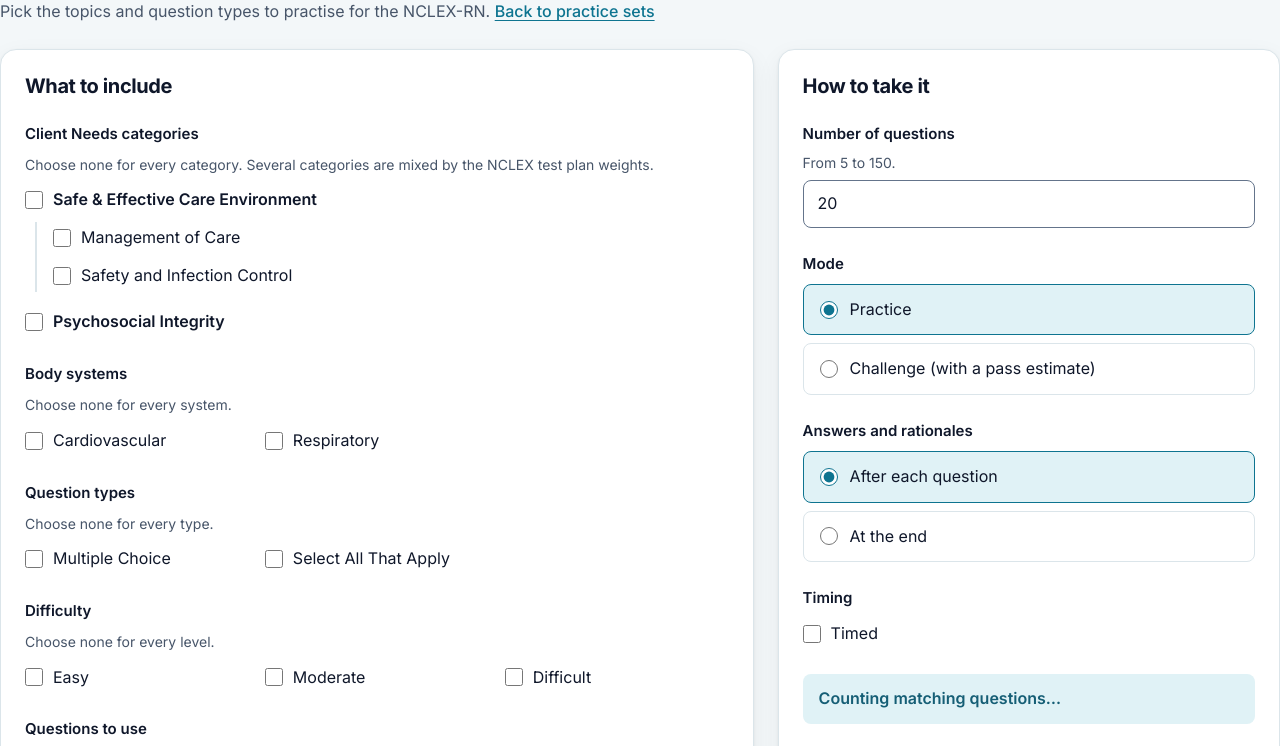
CustomBuilder › creates the test and shows it with the number of questions
Check: the checkbox labelled "Management of Care" is shown, box 53,229 -> 71,247
Click the checkbox labelled "Psychosocial Integrity" at coordinates (34, 322), box 25,313 -> 43,331
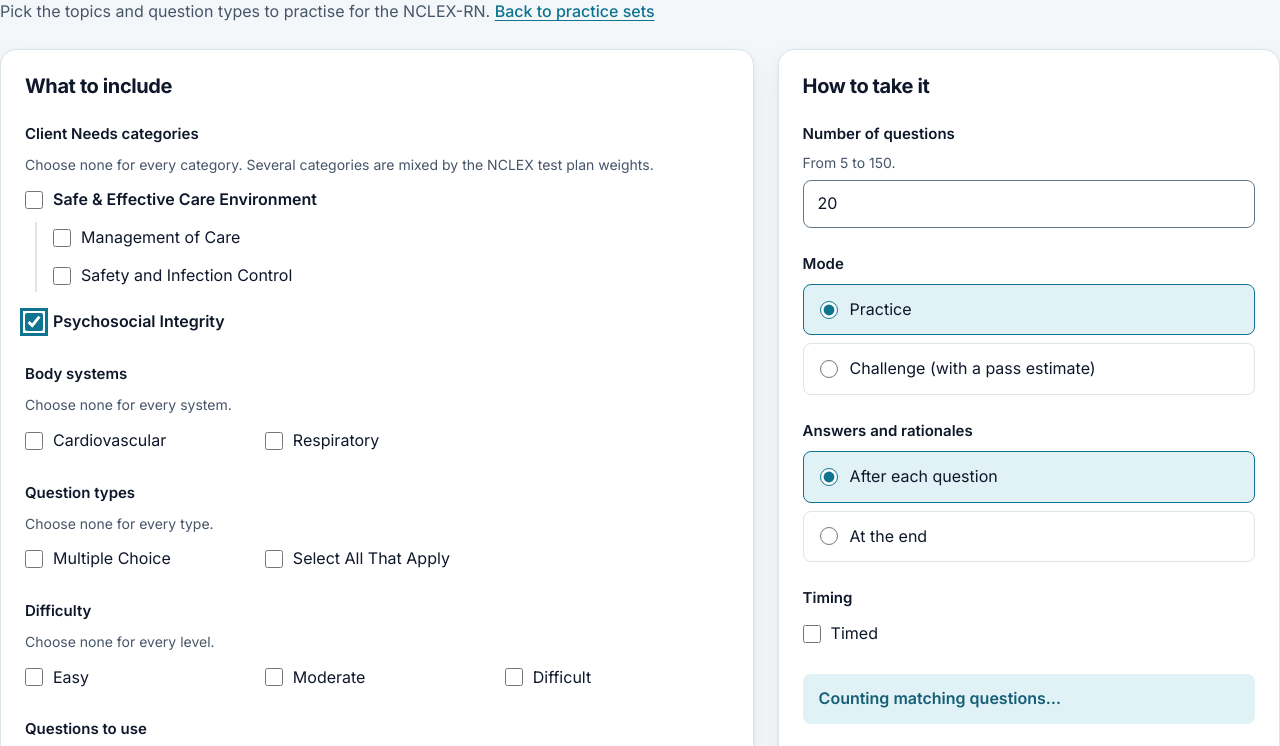
Replace the text in the number field labelled "Number of questions" with "10" at coordinates (1029, 204), box 803,180 -> 1255,228
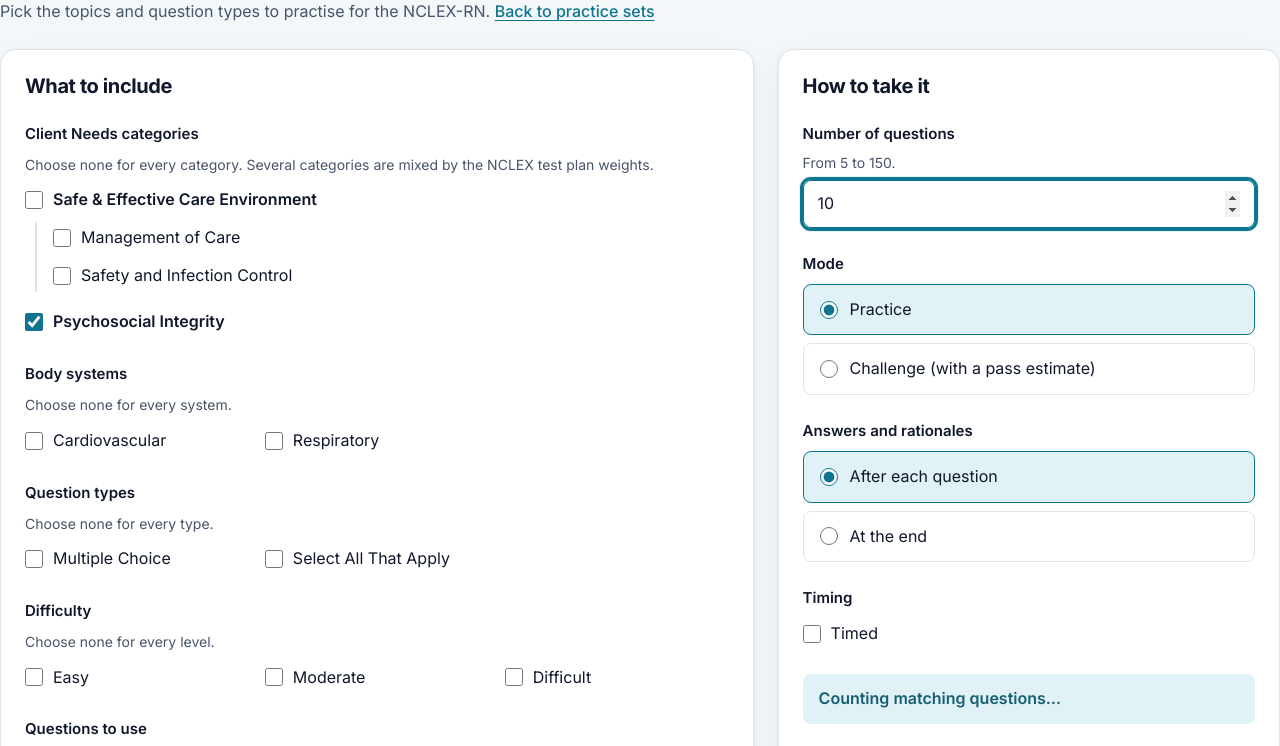
Click the radio button labelled "Challenge (with a pass estimate)" at coordinates (829, 369), box 820,360 -> 838,378
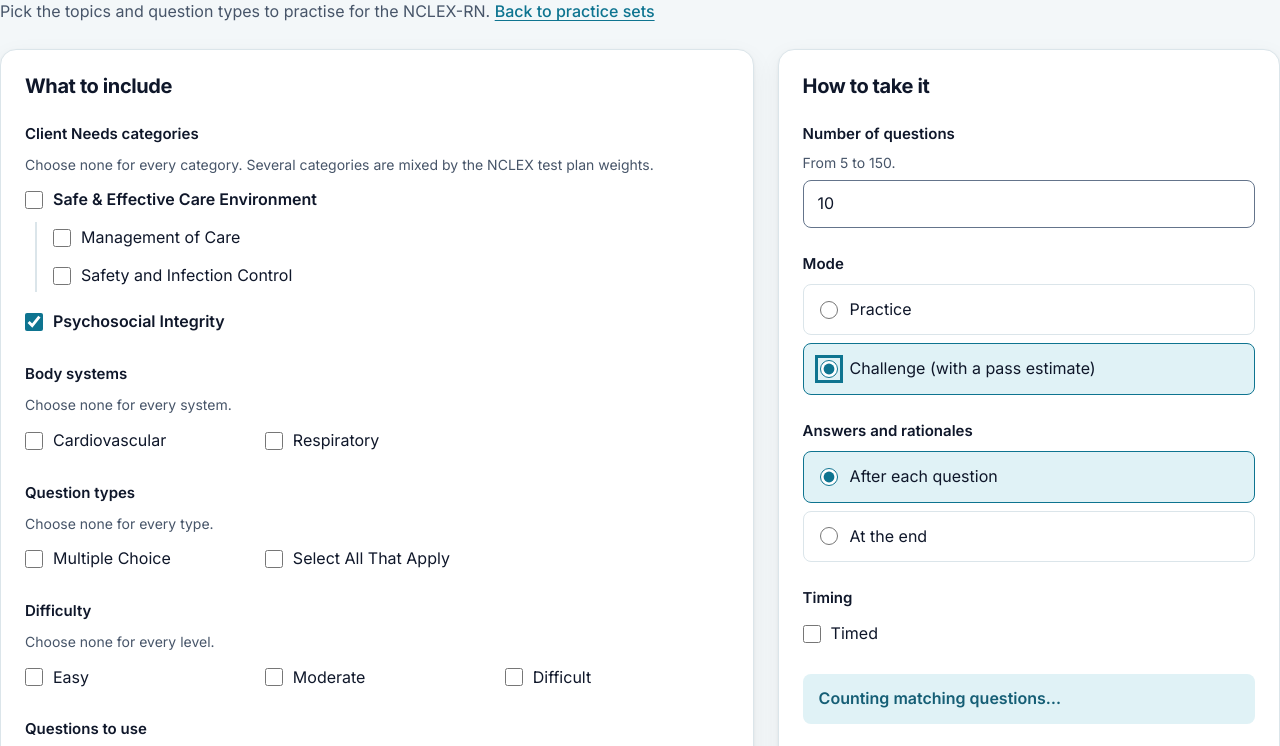
Click the checkbox labelled "Timed" at coordinates (812, 634), box 803,625 -> 821,643
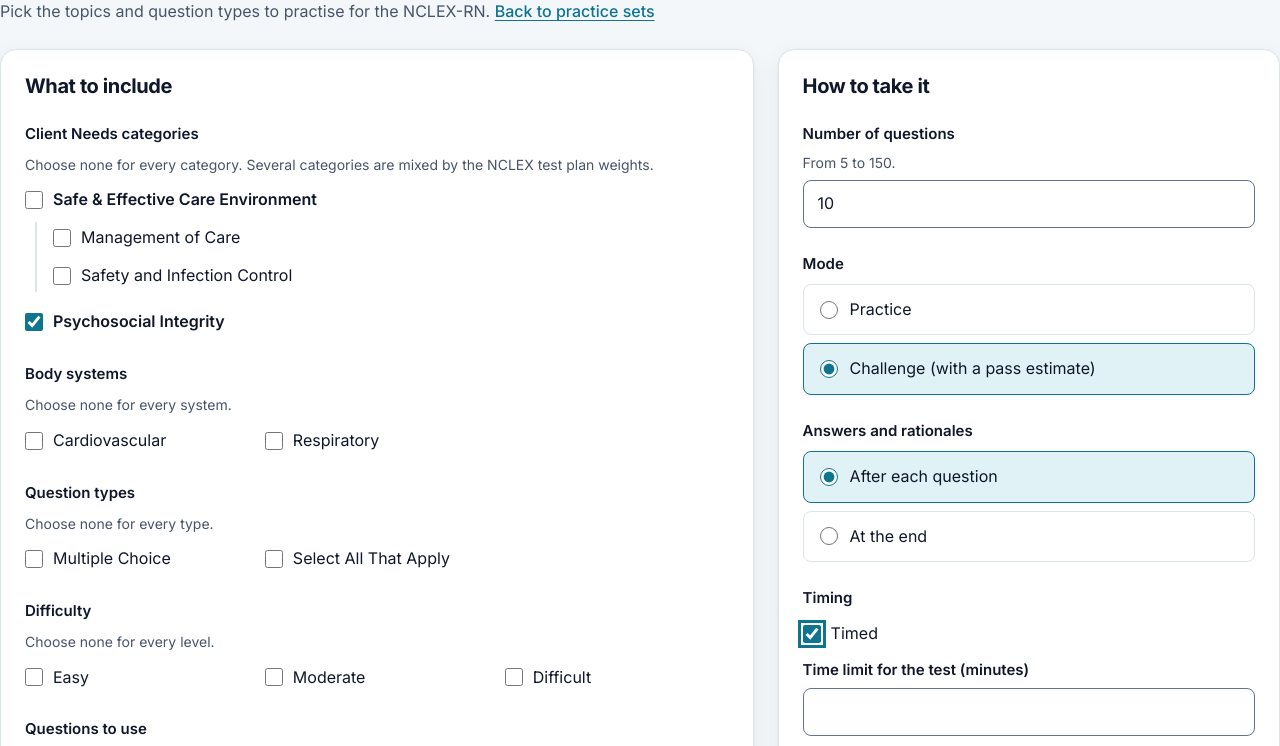
Type "15" into the number field labelled "Time limit for the test (minutes)" at coordinates (1029, 712), box 803,688 -> 1255,736
(page scrolled)
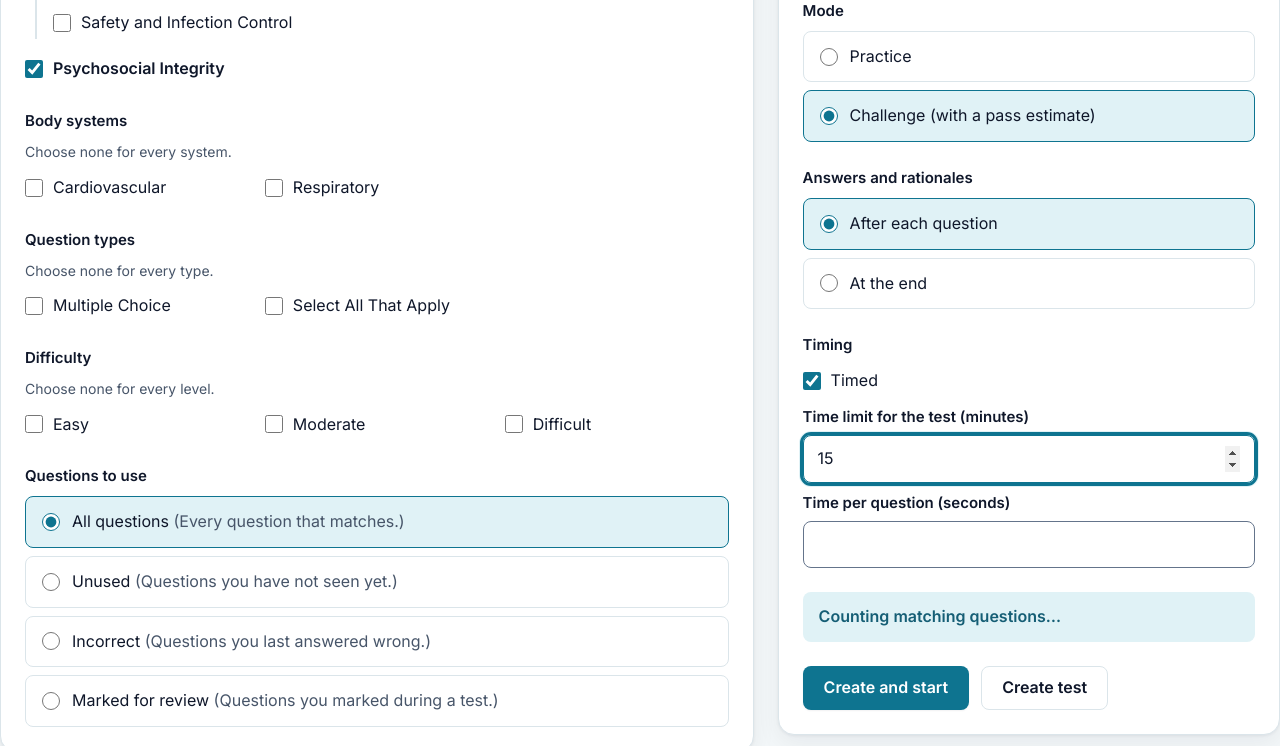
Click the button "Create test" at coordinates (1045, 688), box 981,666 -> 1108,710
(page scrolled)
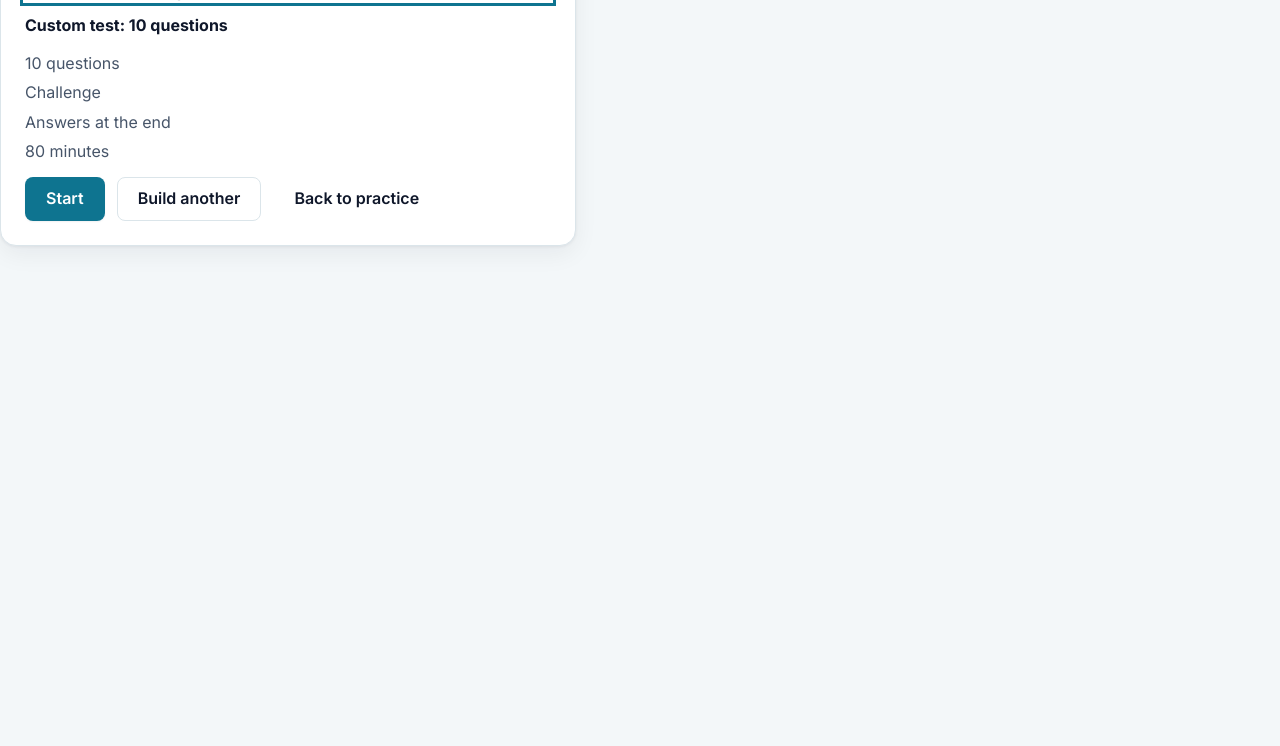
Check: the button "Start" is enabled, box 25,177 -> 105,221
Check: the text "Custom test: 10 questions" is shown, box 25,15 -> 228,35
Check: the list item "10 questions" is shown, box 25,53 -> 120,73
